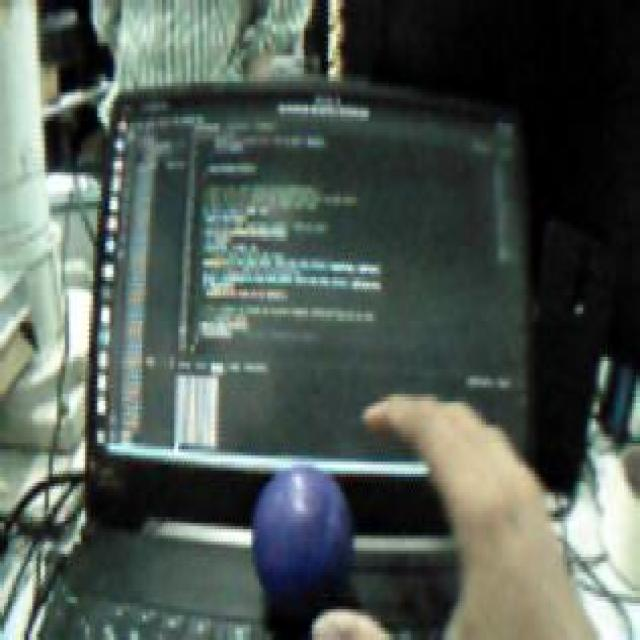BallPurple: (250, 465, 353, 609)
